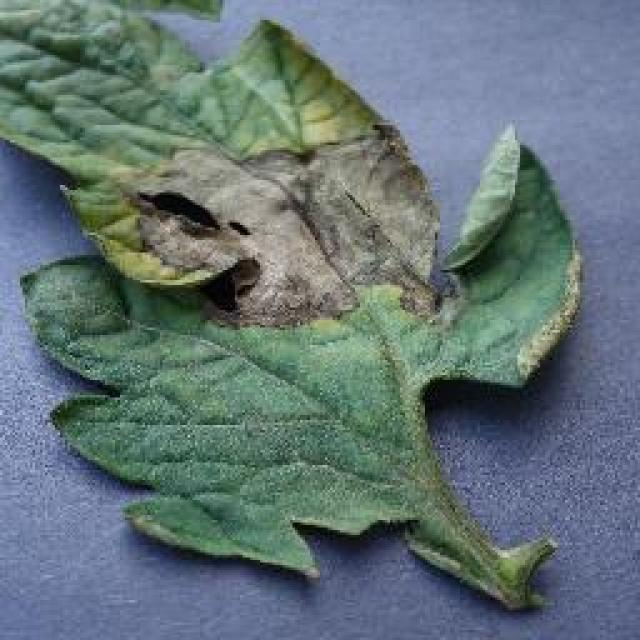Tomato Late Blight: (60, 98, 525, 330)
